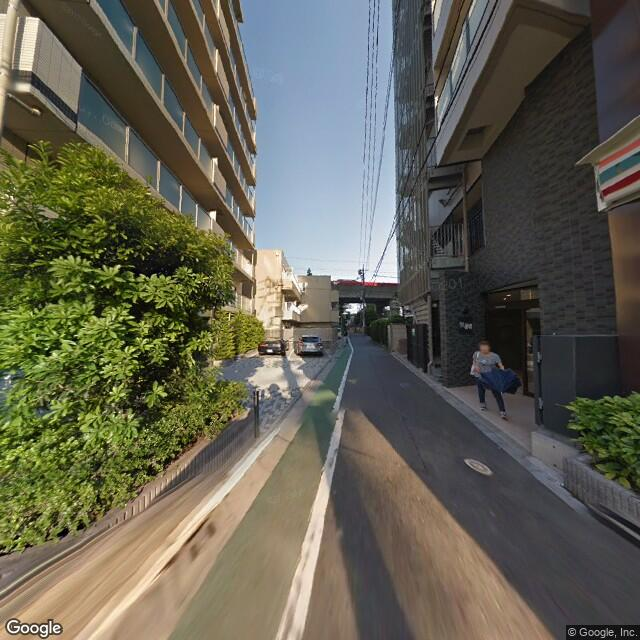7-eleven: (592, 127, 639, 210)
